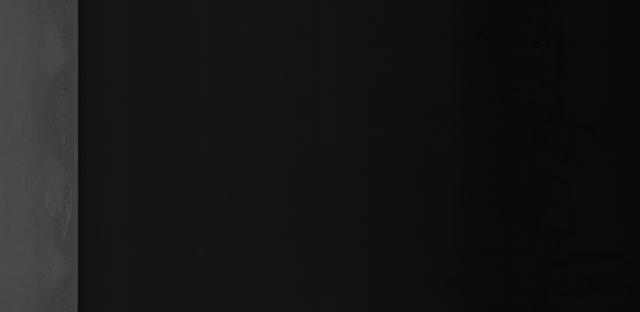silk_spot: (29, 51, 74, 281)
